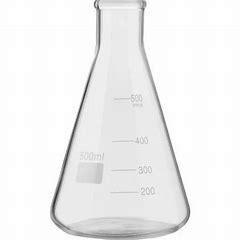Titrarion: (45, 2, 194, 238)
